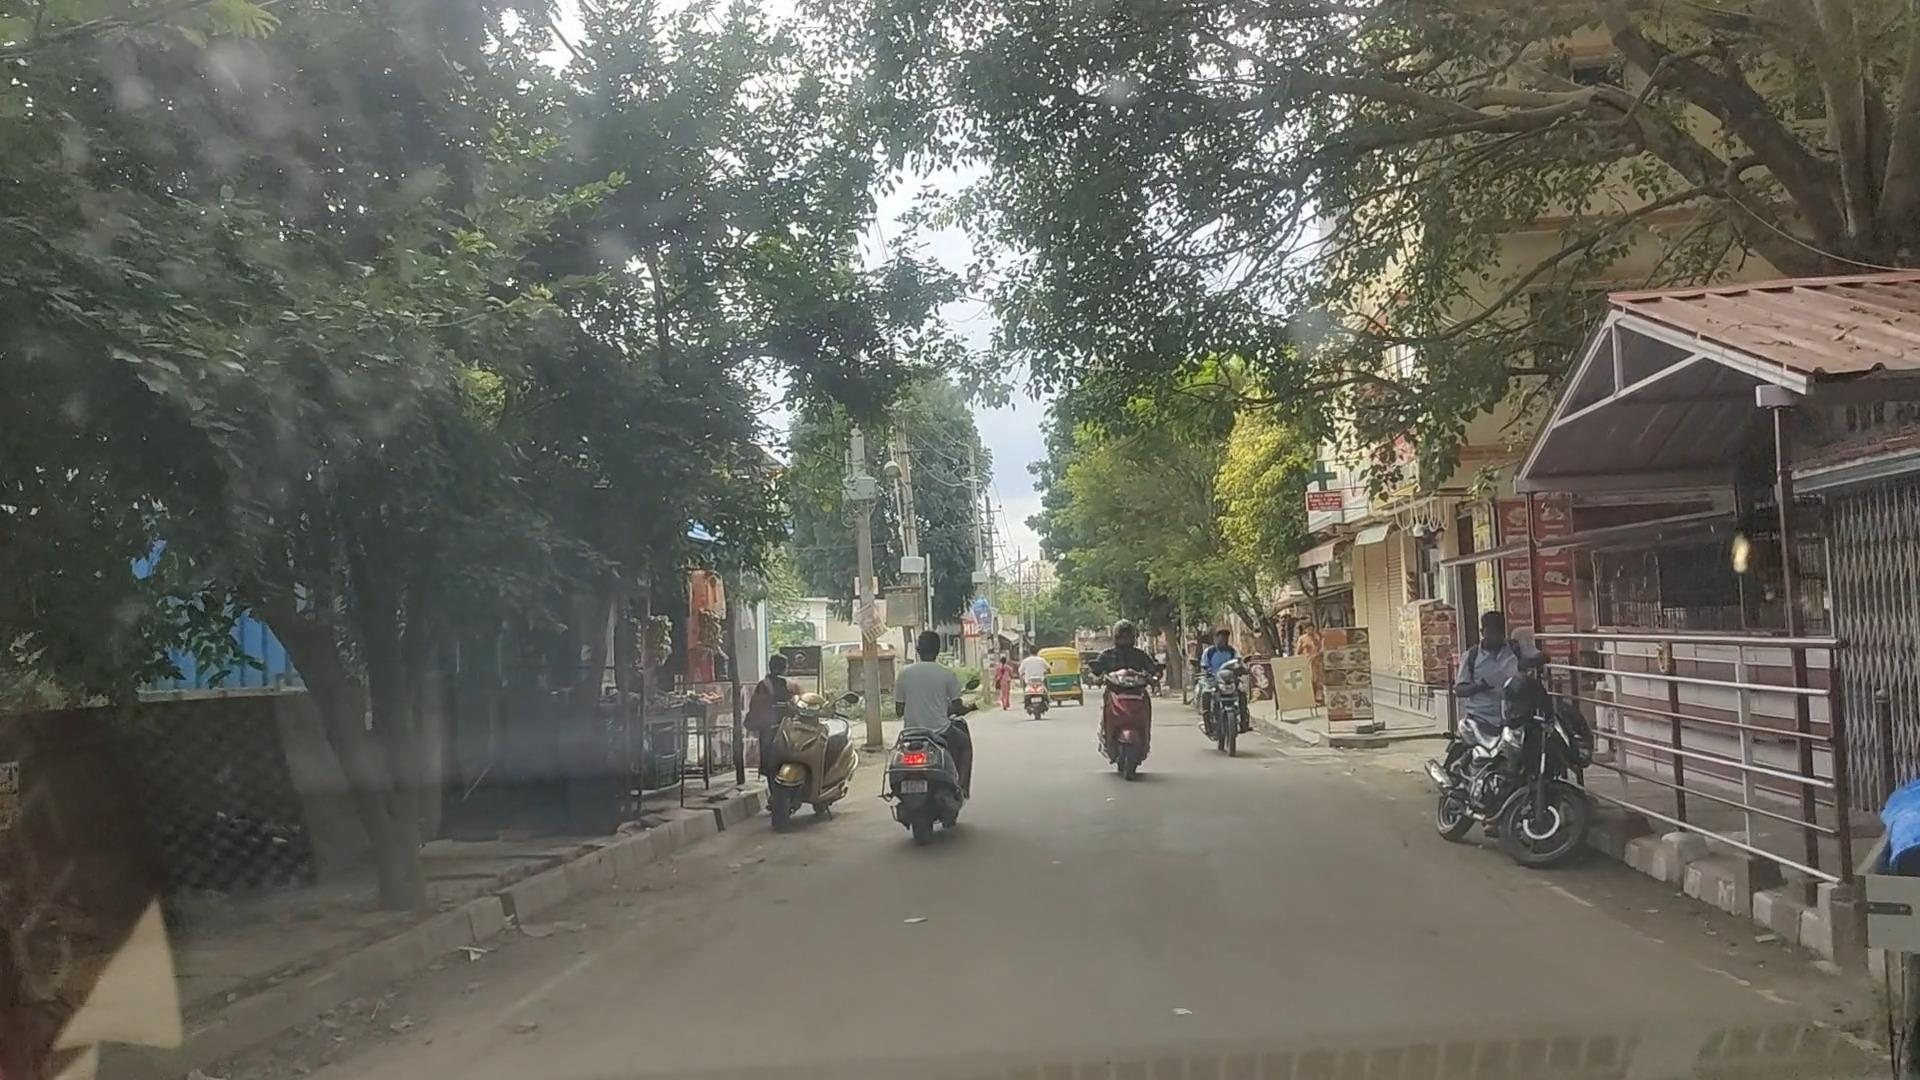LMV: (1428, 580, 1615, 889), (866, 612, 985, 880), (745, 646, 873, 839)
